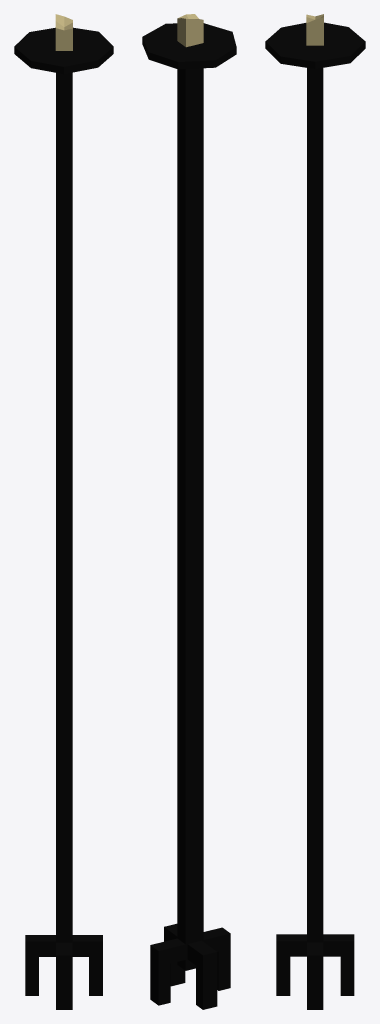
Rendered from Candle_Stand.fbx.
3 views of the same model, side by side, from view 1: azimuth 90°, elevation 25°; view 2: azimuth 210°, elevation 25°; view 3: azimuth 270°, elevation 25° (orthographic).
Visible parts, largest first — view 1: Candle Stand; view 2: Candle Stand; view 3: Candle Stand.
Boxes of the visible parts, left/top/right/bottom form: Candle Stand: left=14, top=14, right=113, bottom=1009; Candle Stand: left=142, top=14, right=236, bottom=1009; Candle Stand: left=265, top=14, right=365, bottom=1009.
Bounding box in the file's own units: 14.73 × 165 × 15.23.
